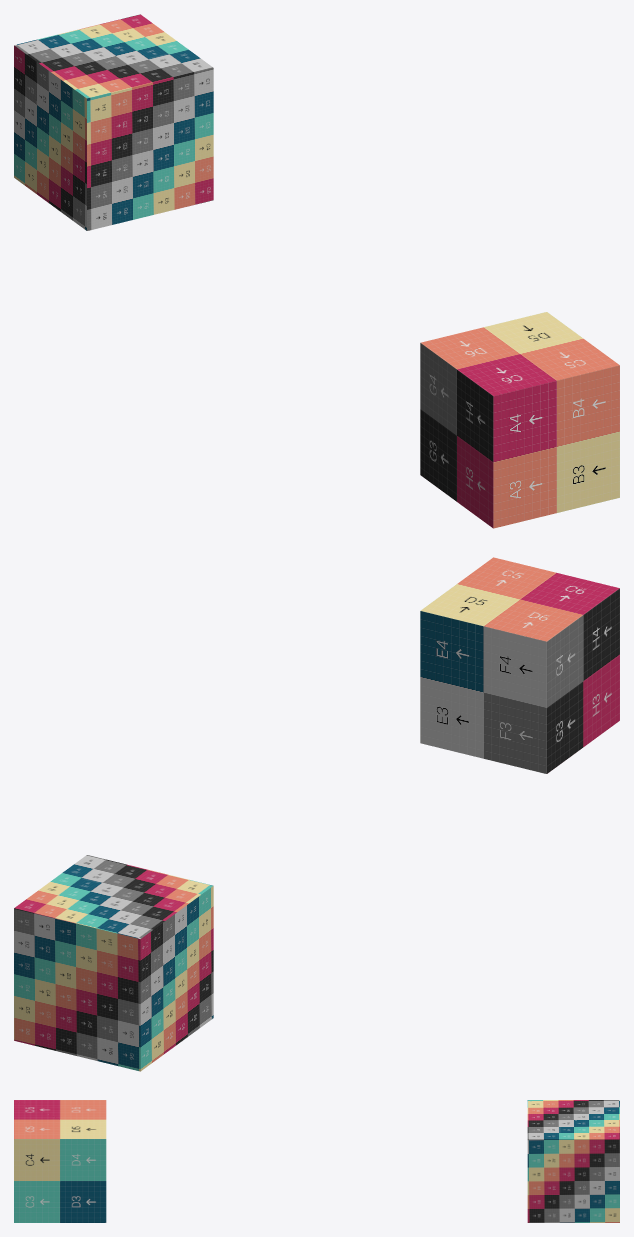
The model's file is manualMorphCubes.glb.
The picture shows the model from 3 angles, top to bottom: view 1: azimuth 30°, elevation 25°; view 2: azimuth 150°, elevation 25°; view 3: azimuth 270°, elevation 25°; orthographic projection. The views are drawn at different scales.
Visible parts, largest first — view 1: Cube, Cube.001; view 2: Cube, Cube.001; view 3: Cube, Cube.001.
Part boxes in pixels (x1,y1,x2,y2): Cube: [420, 312, 619, 528]; Cube.001: [14, 14, 213, 230]; Cube: [420, 557, 619, 773]; Cube.001: [14, 855, 213, 1071]; Cube: [14, 1100, 106, 1222]; Cube.001: [527, 1100, 619, 1222].
Size of the model in its own units: 2 by 2 by 13.12.
1 material, 1 textured.
